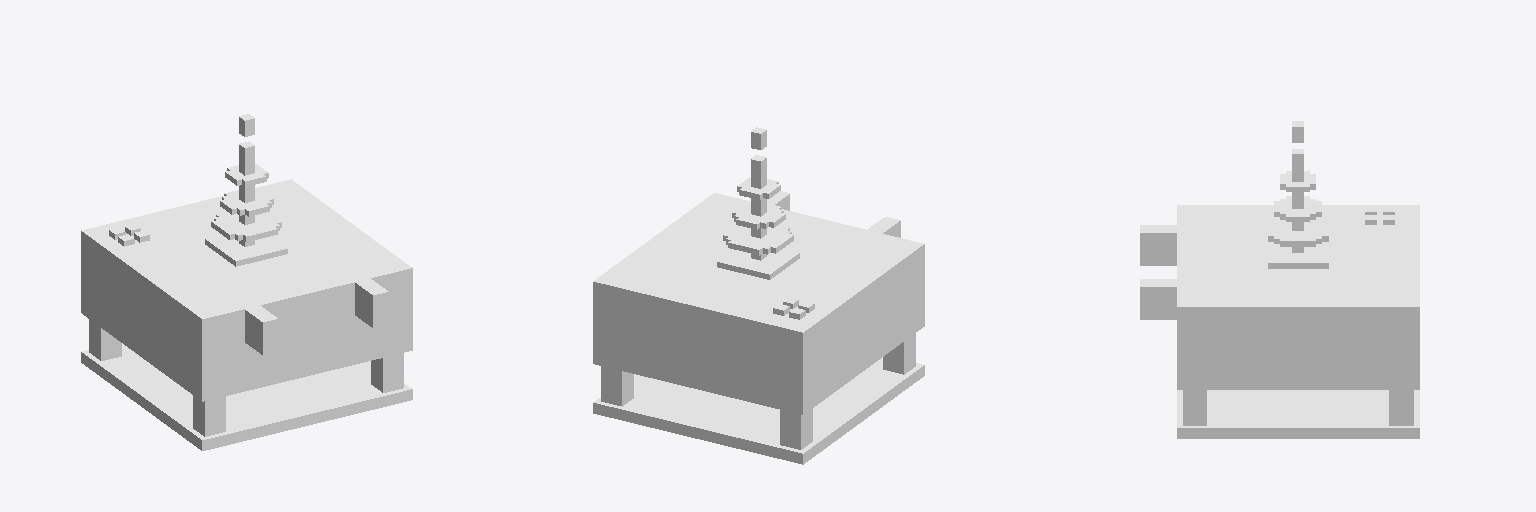
The model's file is transmitter_core.obj.
3 renders of one model, left to right at view 1: azimuth 30°, elevation 25°; view 2: azimuth 150°, elevation 25°; view 3: azimuth 270°, elevation 25°, orthographic.
Parts seen in each view (by area): view 1: transmitter_core; view 2: transmitter_core; view 3: transmitter_core.
Boxes of the visible parts, x1,y1,x2,y2 form: transmitter_core: [81, 114, 412, 450]; transmitter_core: [593, 127, 924, 464]; transmitter_core: [1140, 121, 1419, 438].
Bounding box in the file's own units: 40 × 48 × 46.